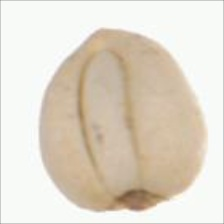L5: (76, 49, 144, 192), (106, 188, 172, 212), (70, 25, 145, 43)
L6: (37, 26, 207, 213)
